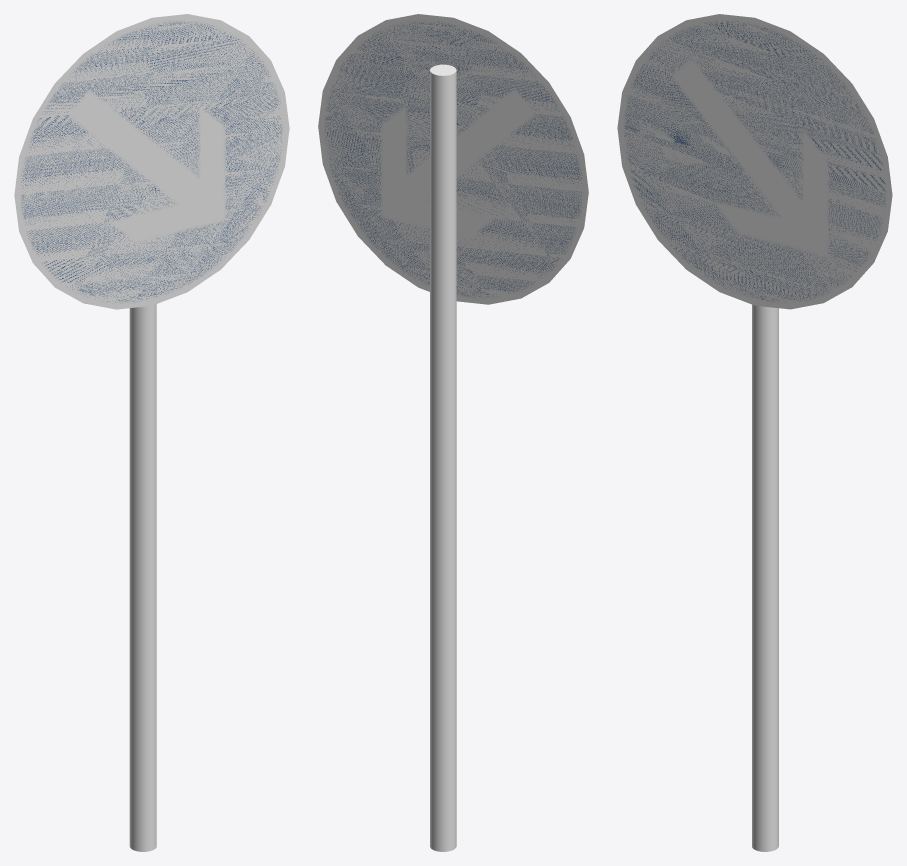
3 renders of one model, left to right at view 1: azimuth 30°, elevation 25°; view 2: azimuth 150°, elevation 25°; view 3: azimuth 330°, elevation 25°, orthographic.
Visible parts, largest first — view 1: SketchUp (×2); view 2: SketchUp (×2); view 3: SketchUp (×2).
Part boxes in pixels (left/top/right/bottom): SketchUp (×2): left=14, top=14, right=289, bottom=851; SketchUp (×2): left=318, top=14, right=588, bottom=851; SketchUp (×2): left=617, top=14, right=892, bottom=851.
Size of the model in its own units: 74.02 by 7.6 by 215.
2 materials, 1 textured.
